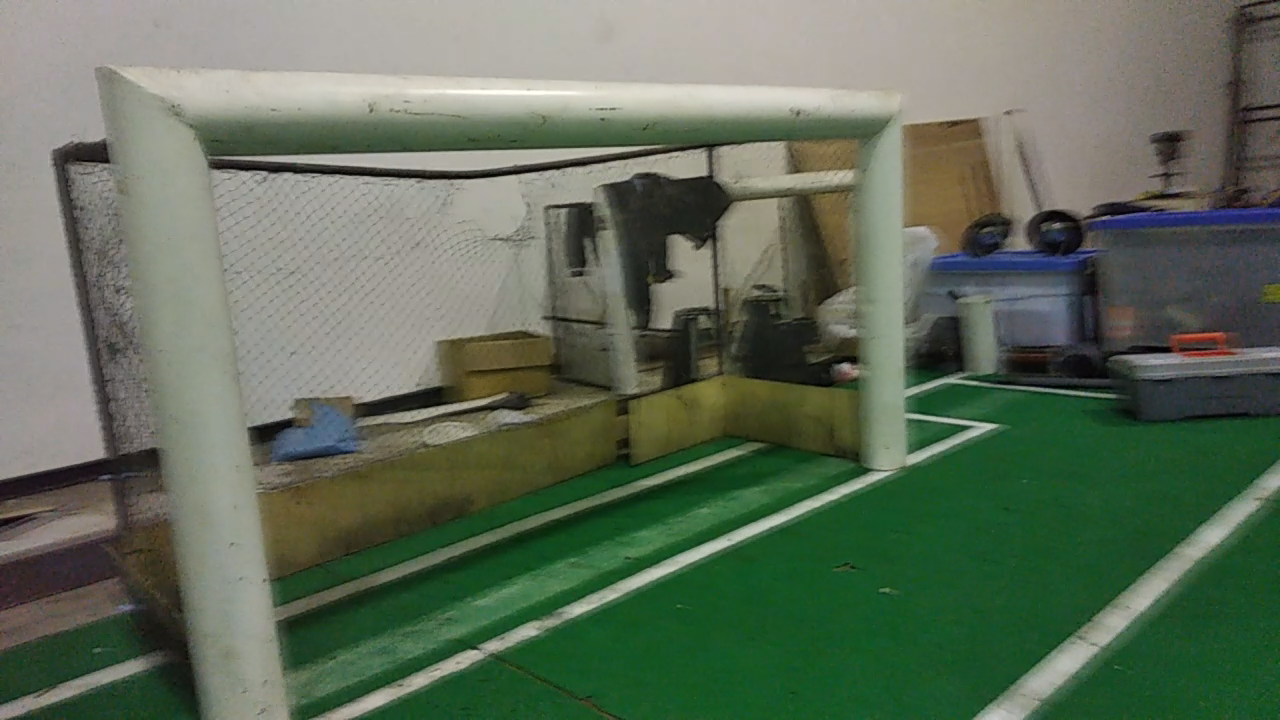gawang: (81, 48, 922, 719)
